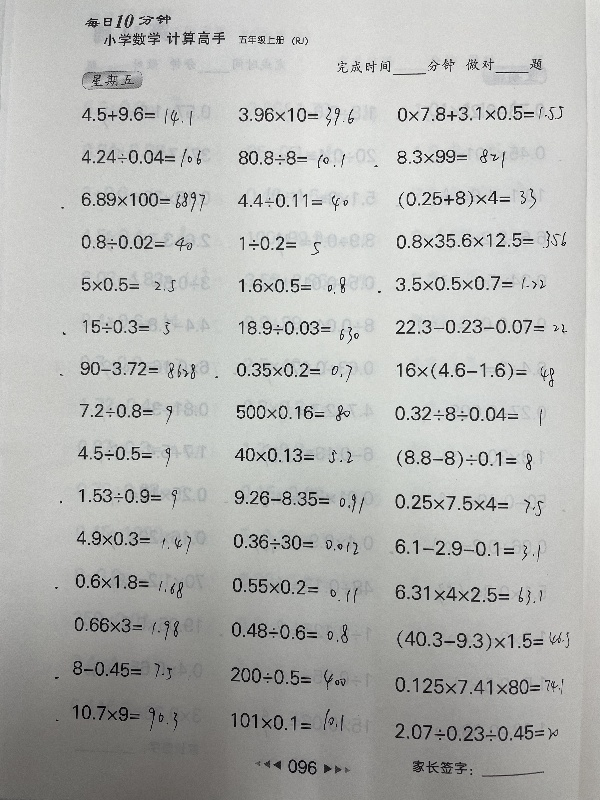equation: (389, 624, 576, 661), (390, 225, 574, 261), (392, 671, 569, 706), (389, 490, 546, 525), (389, 401, 550, 435), (392, 313, 569, 342), (392, 718, 561, 748), (391, 355, 557, 385), (230, 571, 361, 609), (394, 103, 570, 130), (227, 618, 353, 654), (68, 700, 184, 739), (71, 524, 208, 555), (384, 535, 543, 561), (228, 529, 375, 557), (394, 184, 540, 212), (389, 580, 545, 606), (390, 274, 552, 299), (72, 569, 190, 603), (226, 663, 350, 694), (391, 445, 535, 471), (229, 485, 367, 512), (233, 314, 363, 342), (77, 188, 209, 215), (67, 654, 178, 685), (228, 709, 349, 737), (77, 273, 186, 304), (231, 358, 355, 384), (77, 145, 205, 170), (234, 103, 357, 129), (71, 616, 182, 644), (232, 232, 328, 264), (232, 400, 354, 425), (235, 273, 352, 299), (230, 442, 355, 466), (392, 142, 507, 168), (74, 483, 180, 511), (75, 356, 198, 380), (77, 101, 195, 126), (76, 229, 195, 252), (233, 145, 347, 169), (74, 398, 175, 425), (233, 189, 351, 212), (73, 441, 173, 468), (78, 314, 172, 337)
